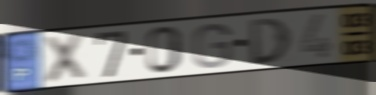0: (145, 25, 184, 75)
4: (299, 12, 334, 61)
7: (94, 30, 128, 80)
D: (248, 16, 294, 67)
G: (191, 21, 233, 70)
X: (42, 31, 88, 85)
